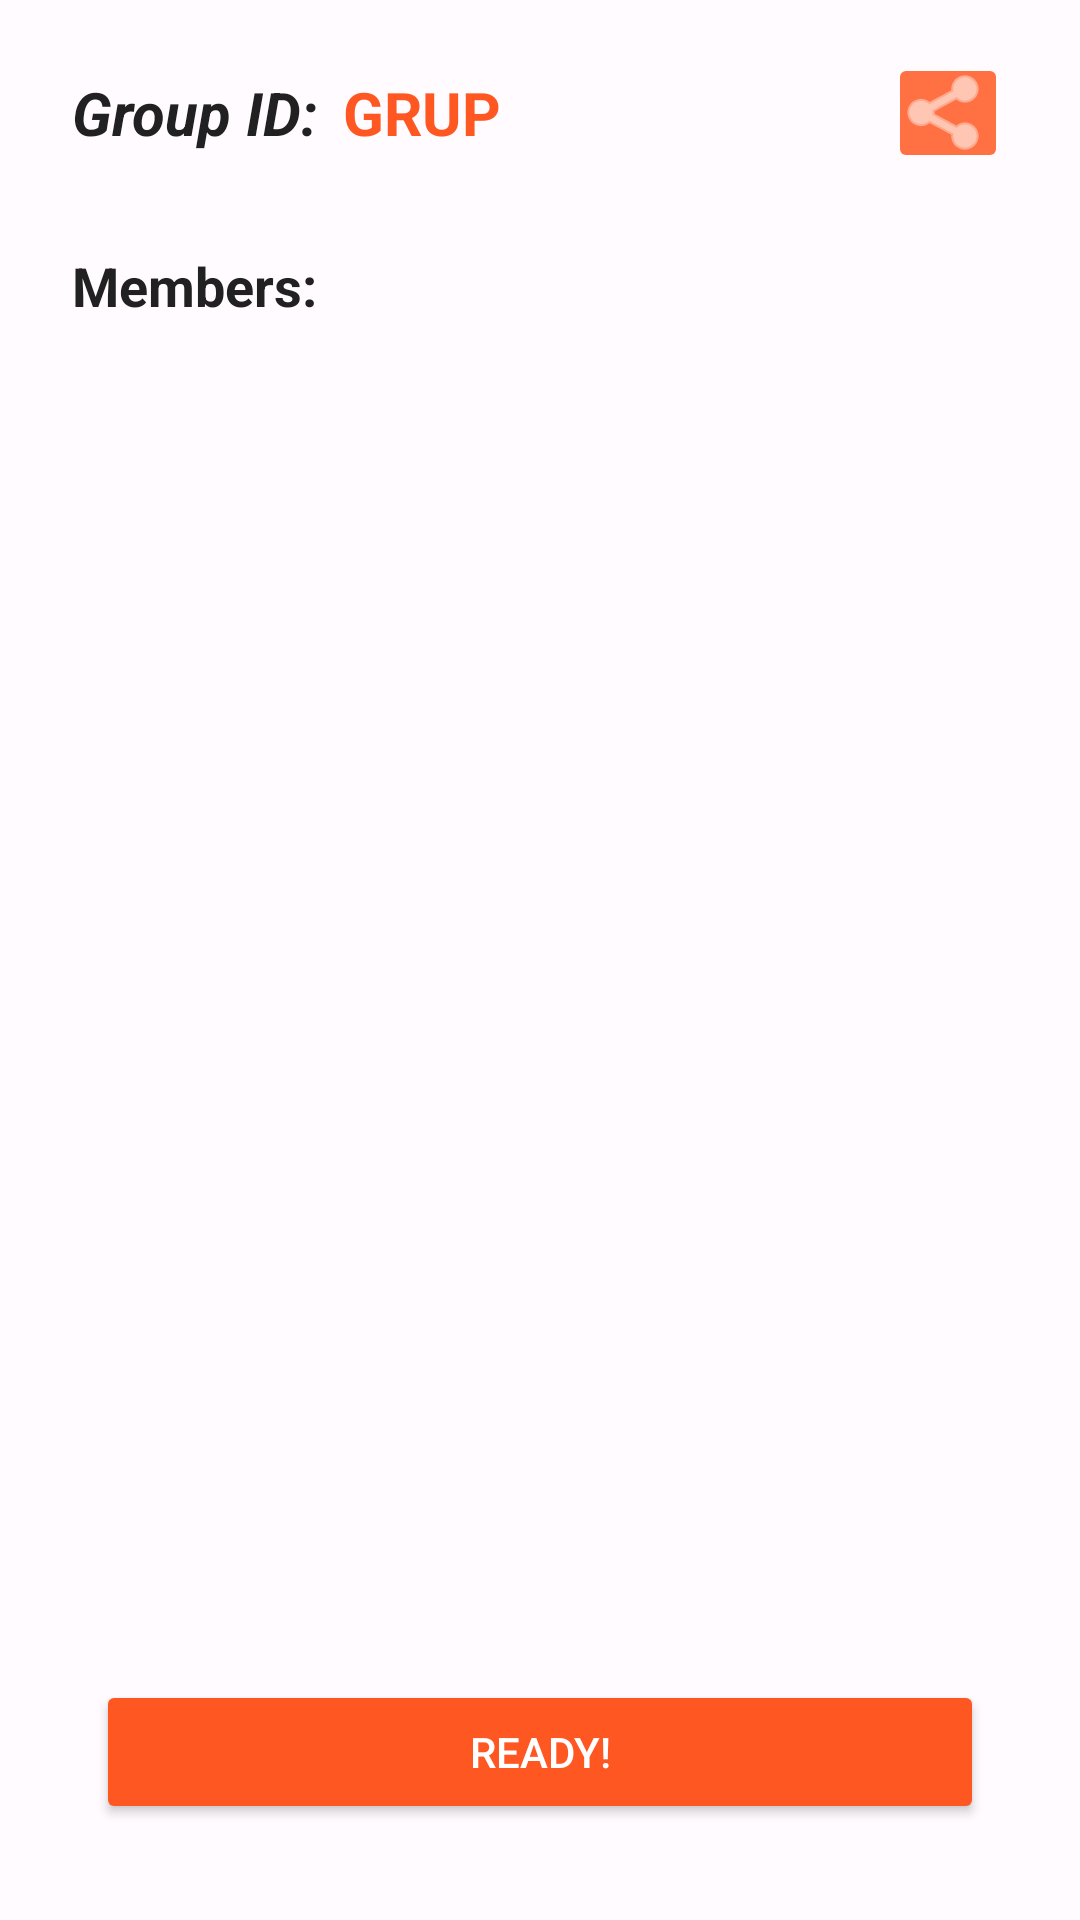

Icons on this 1080 × 1920 Android screen, each with its box as BBox(x1, y1, x2, y2):
share: BBox(900, 71, 996, 155)
